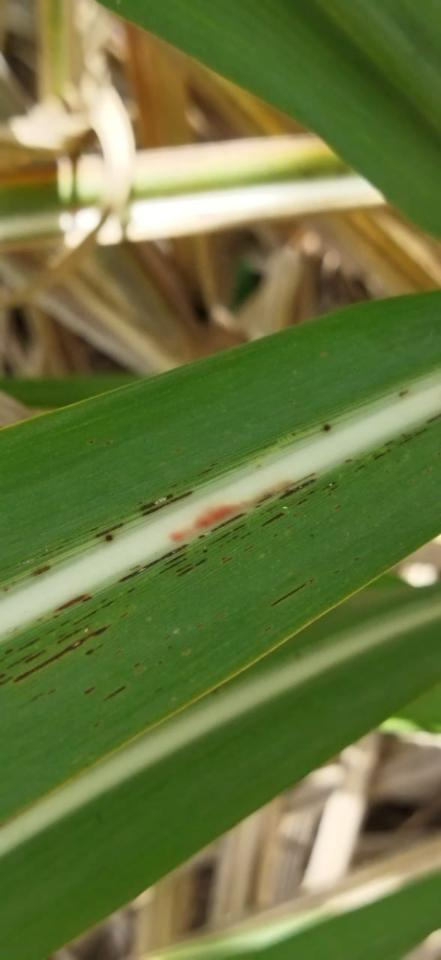RedRot: (168, 502, 245, 543)
Rust: (11, 622, 114, 686), (118, 542, 191, 584), (256, 472, 317, 504), (268, 575, 317, 609), (141, 491, 194, 517), (206, 522, 248, 548), (278, 477, 318, 501), (209, 512, 247, 534), (53, 592, 90, 614), (176, 557, 209, 578), (139, 492, 175, 511), (157, 557, 188, 576), (4, 652, 33, 671), (399, 427, 428, 446), (101, 683, 128, 703), (258, 511, 286, 529), (71, 609, 98, 627), (56, 627, 83, 645), (95, 522, 124, 538), (17, 636, 42, 653), (24, 647, 46, 664), (163, 552, 187, 566), (31, 564, 52, 578), (218, 535, 240, 548), (85, 643, 104, 656), (373, 448, 392, 461), (99, 599, 117, 611), (259, 505, 277, 517), (175, 562, 193, 573), (0, 674, 15, 687), (426, 413, 440, 425), (83, 685, 98, 696), (321, 481, 336, 492), (59, 617, 72, 628), (354, 463, 366, 473), (126, 585, 136, 596), (45, 627, 57, 636), (382, 439, 395, 447), (322, 423, 332, 433), (398, 389, 409, 398), (240, 532, 252, 540), (296, 498, 307, 506), (4, 647, 14, 655), (83, 595, 93, 603), (57, 632, 67, 640), (243, 545, 254, 552), (222, 557, 233, 564), (343, 458, 353, 465), (106, 534, 114, 542), (89, 526, 98, 533), (197, 533, 206, 540), (306, 490, 315, 497), (133, 661, 141, 668), (334, 503, 341, 511), (0, 672, 7, 679), (201, 548, 209, 554), (255, 503, 263, 509), (94, 721, 101, 727), (48, 690, 56, 695), (220, 557, 226, 561), (159, 660, 163, 665), (168, 644, 172, 649), (309, 534, 314, 537), (274, 534, 278, 537)
